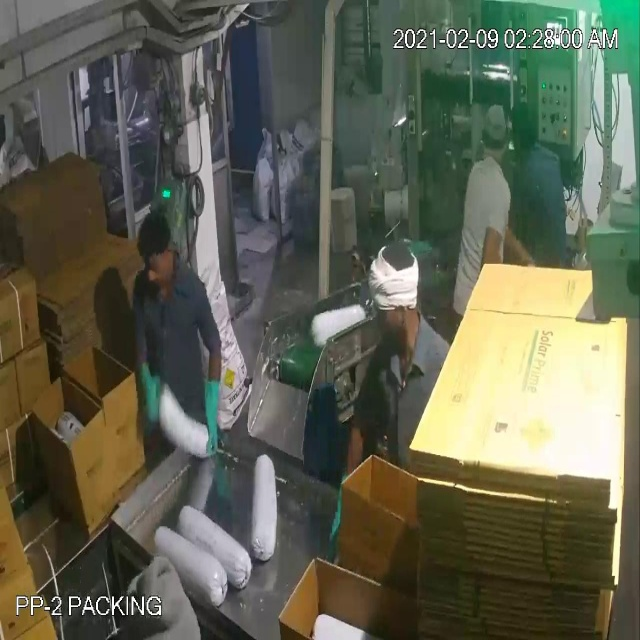Guantes: (125, 353, 169, 436), (196, 373, 229, 463)
